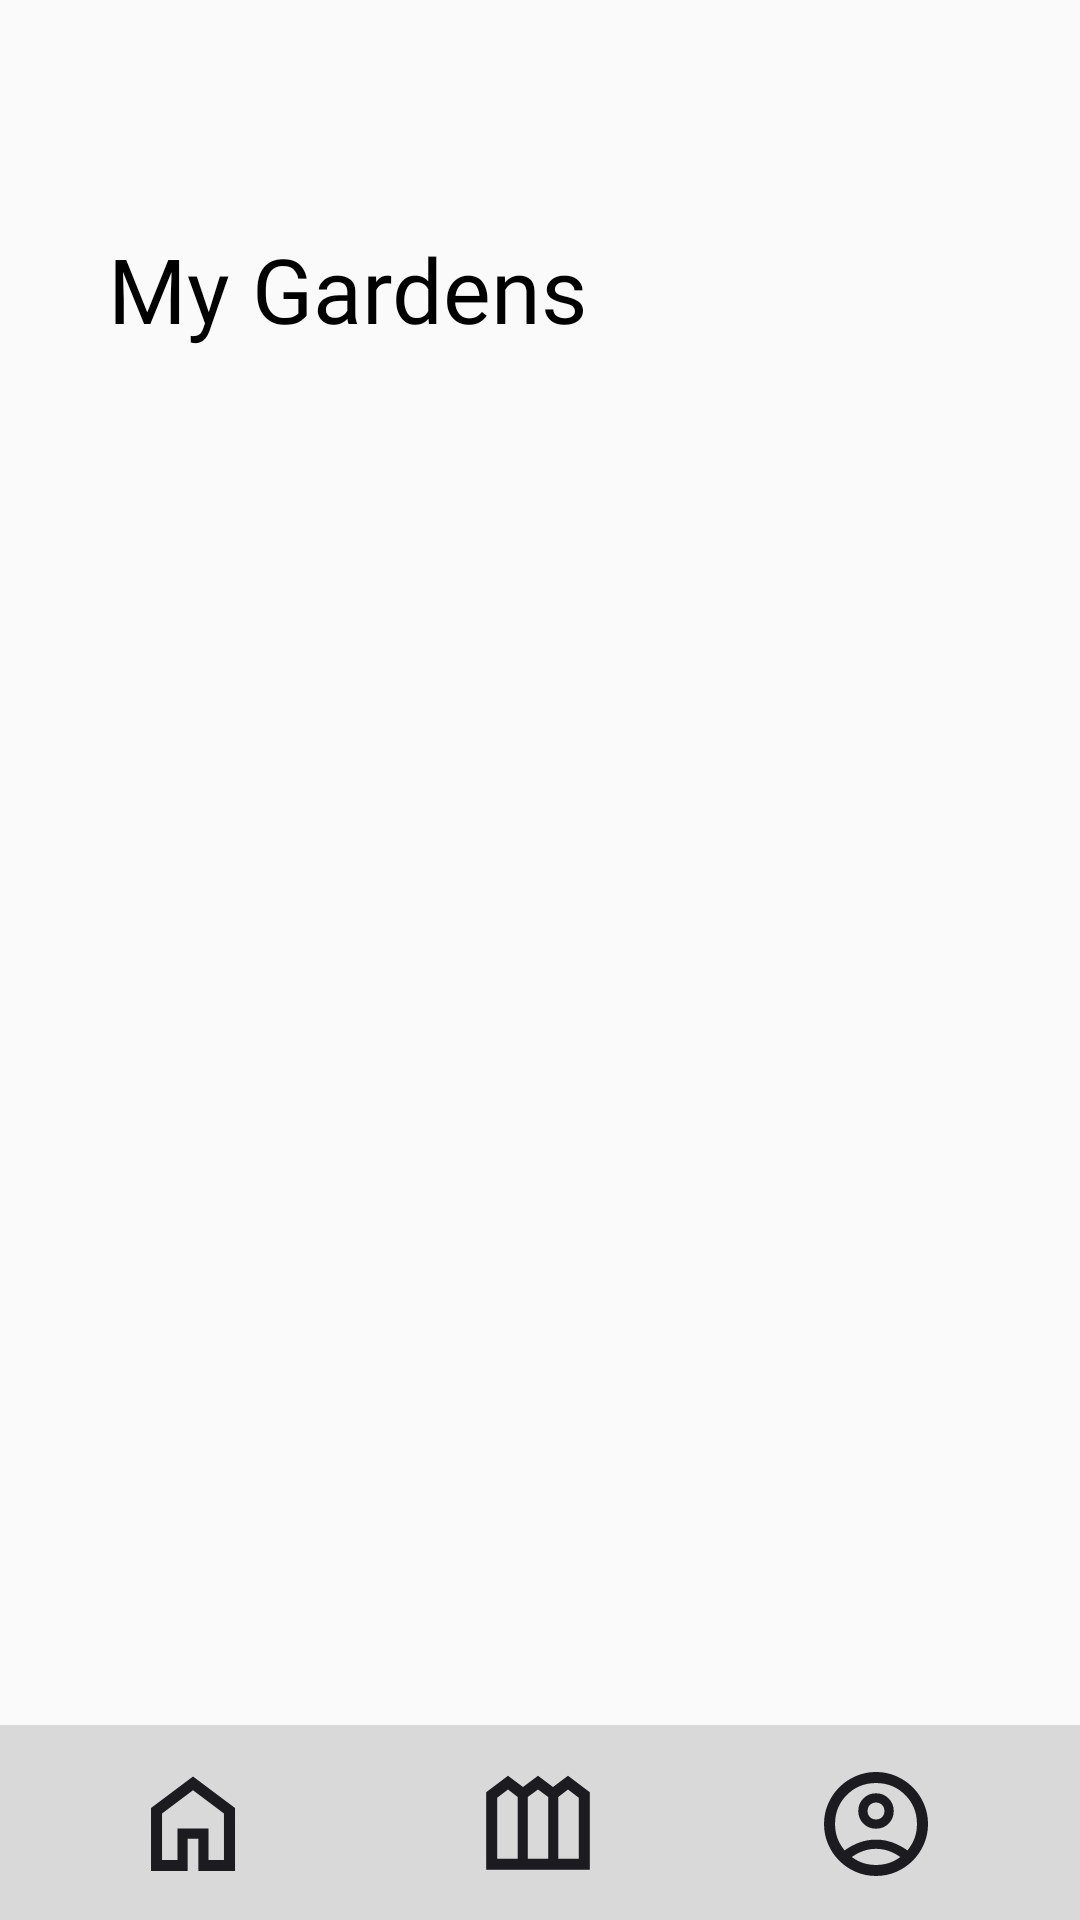

Screen size 1080w x 1920h. Icon name, then its center in pixels as point (x, y):
home: point (193, 1823)
outdoor garden: point (538, 1823)
